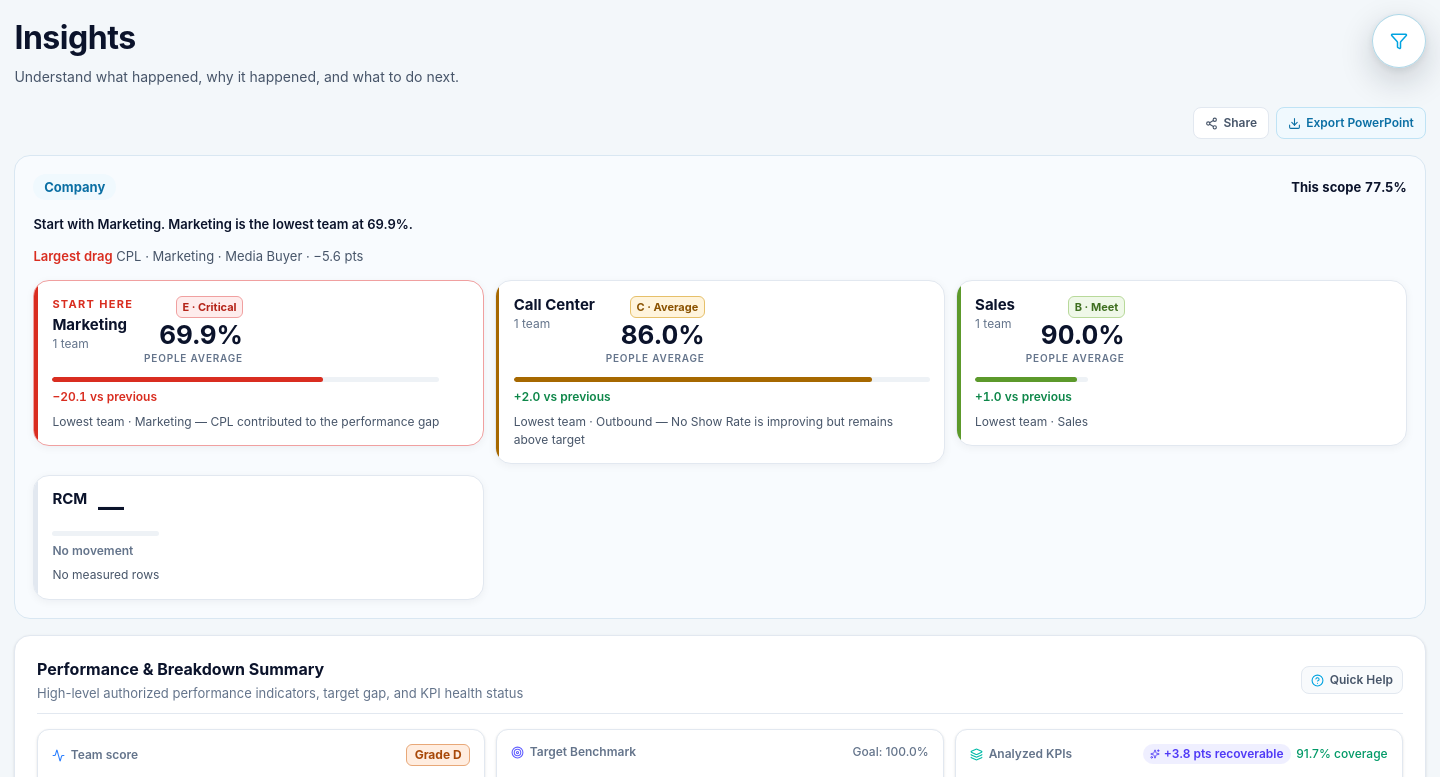
it: InsightsView › renders the header with labelled Date, Regions, primary Functions, Teams and Levels filters in order
This screenshot has width=1440, height=777.
Click the button named "Insights filters".
click(1399, 41)  # box [1372, 14, 1426, 68]
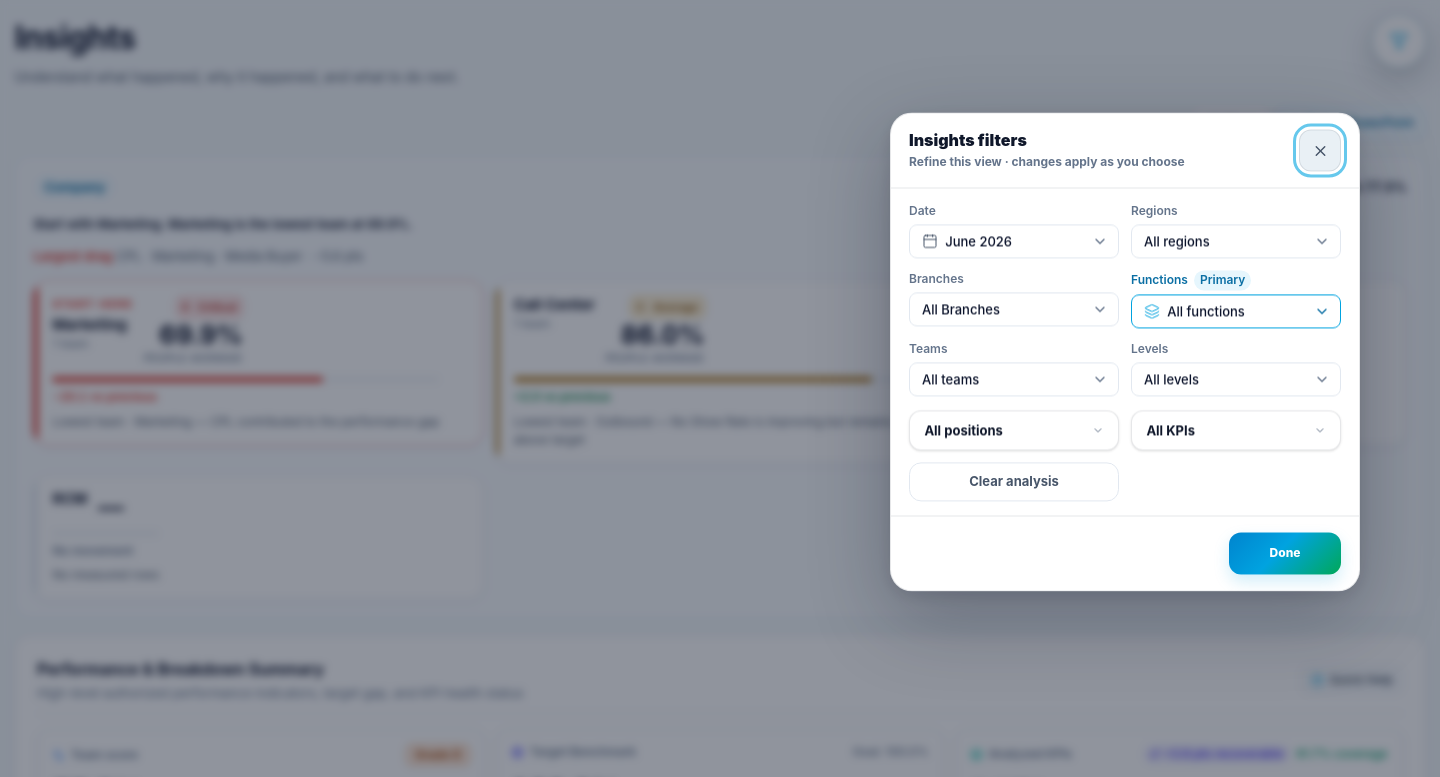
Expected: the text "Date" is shown, [909, 203, 936, 221]
Expected: the text "Regions" is shown, [1131, 203, 1178, 221]
Expected: the text "Branches" is shown, [909, 271, 964, 289]
